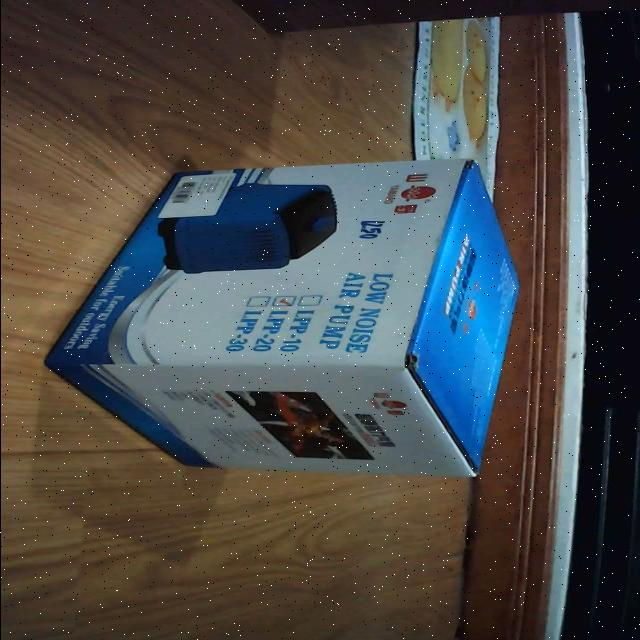YAMANO_LPP_20: (47, 152, 557, 493)
